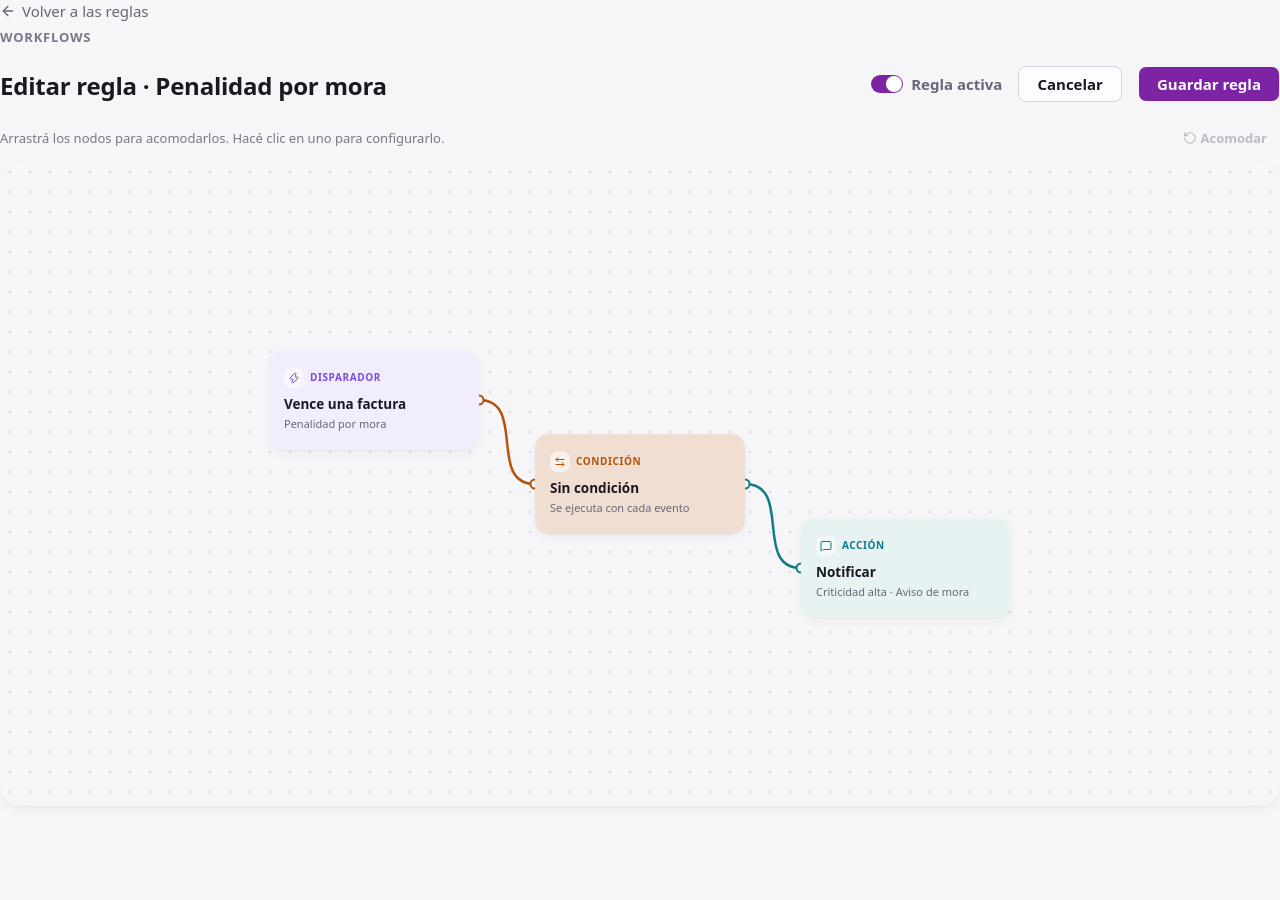
Test: ReglaWorkflowEditorPage › plantilla y destinatarios › muestra los destinatarios en solo lectura si falta autenticacion.leer
The image size is (1280, 900).
Click the button "Acción Notificar Criticidad alta · Aviso de mora": (906, 568) [801, 518, 1011, 618]
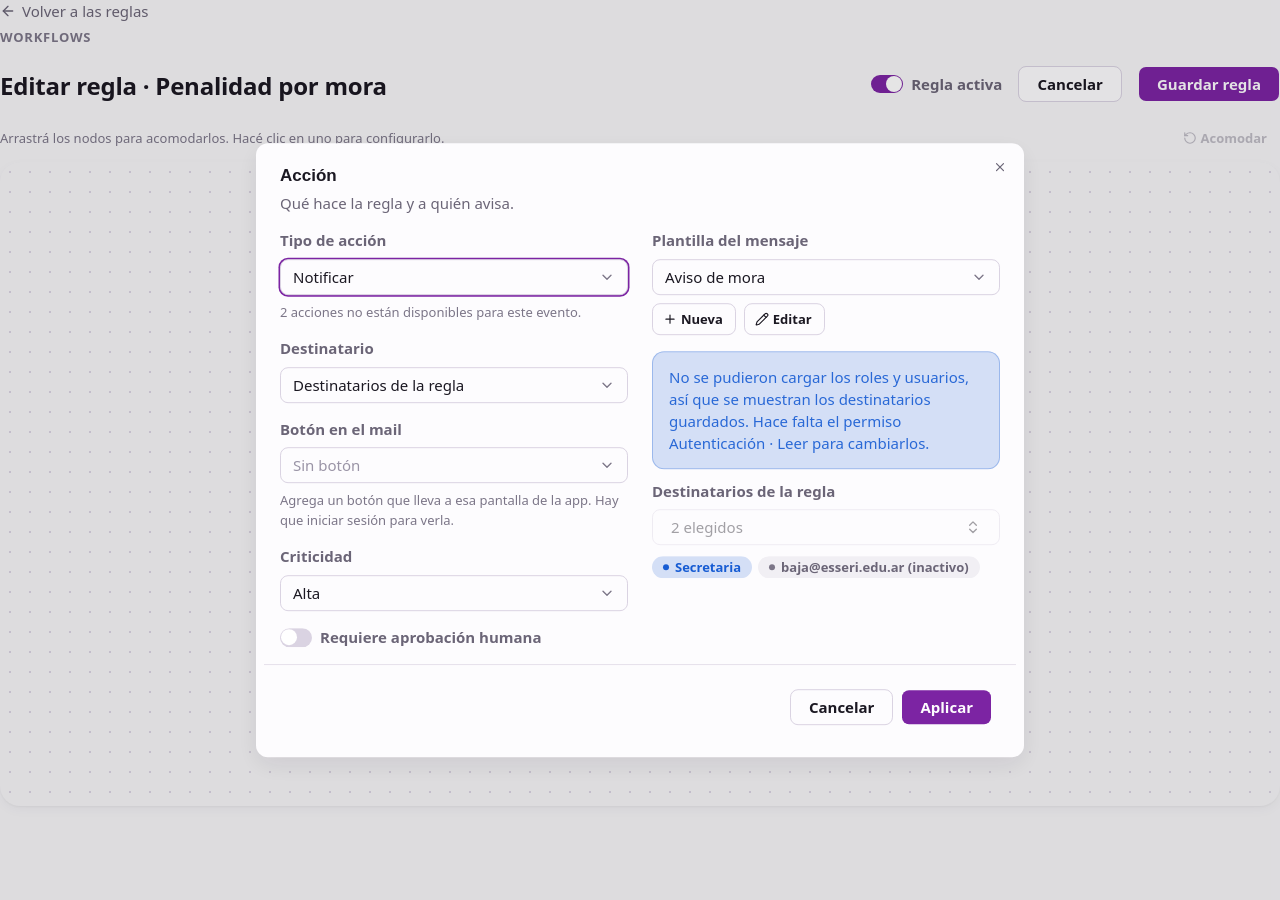
Check: the text "Autenticación · Leer" is shown, box [669, 367, 969, 453]
Check: the dropdown named "Destinatarios de la regla" is disabled, box [652, 509, 1000, 545]
Check: the text "Secretaria" is shown, box [652, 556, 752, 578]
